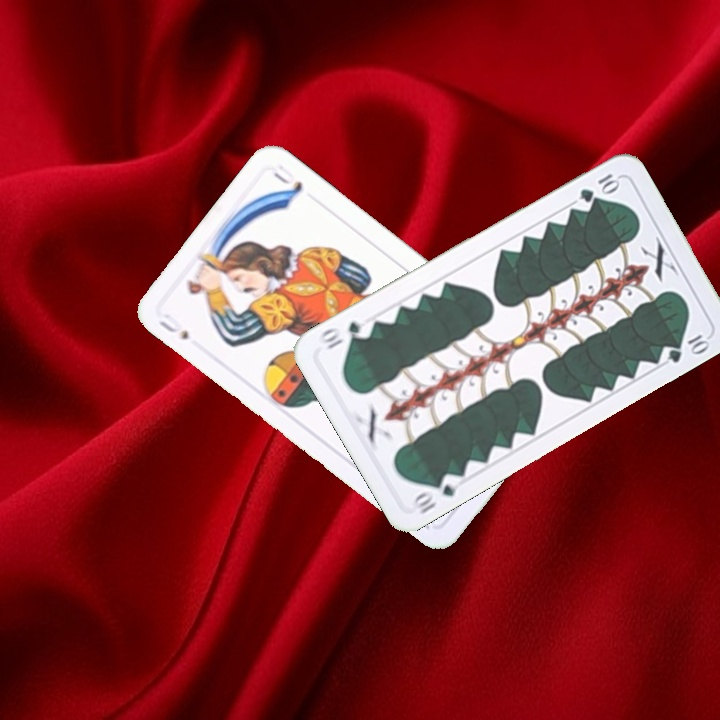G10: (409, 469, 464, 517), (575, 169, 622, 205)
SU: (154, 309, 192, 343)
